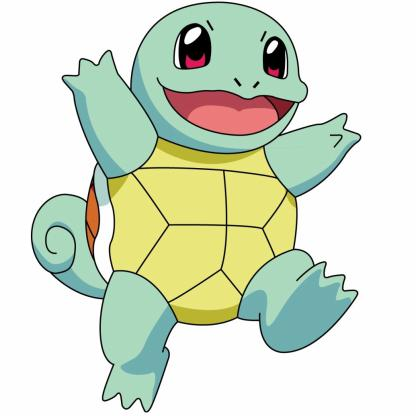Squirtle: (28, 1, 384, 416)
